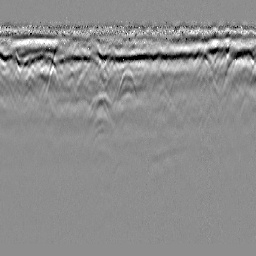cavity: (116, 67, 138, 100)
